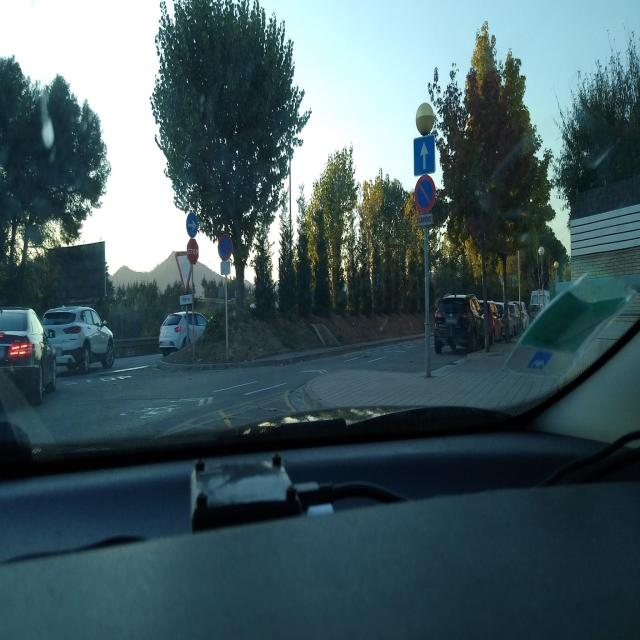car: (0, 305, 58, 408), (41, 303, 115, 374), (433, 292, 487, 356), (158, 309, 208, 355), (477, 299, 503, 344), (494, 300, 518, 340), (511, 300, 528, 330), (516, 300, 530, 329)
